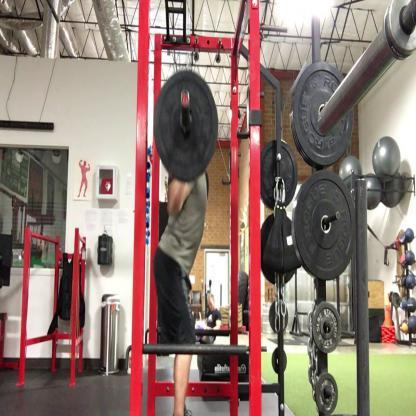Barbell: (180, 89, 193, 112), (328, 321, 336, 333), (331, 390, 338, 403), (335, 210, 342, 222)
